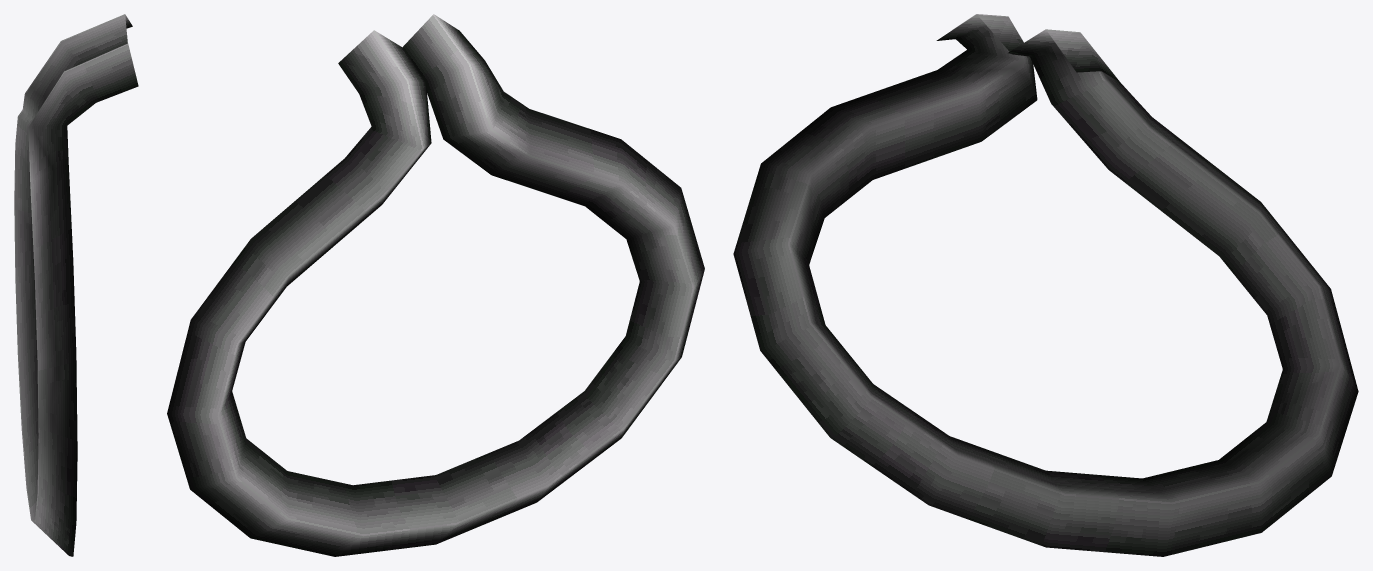
Rendered from OVERHILL_A_01_DOOR_RING.fbx.
3 renders of one model, left to right at view 1: azimuth 30°, elevation 25°; view 2: azimuth 150°, elevation 25°; view 3: azimuth 270°, elevation 25°, orthographic. The views are drawn at different scales.
Parts seen in each view (by area): view 1: OVERHILL_A_01_DOOR_RING; view 2: OVERHILL_A_01_DOOR_RING; view 3: OVERHILL_A_01_DOOR_RING.
Boxes of the visible parts, bbox=[...] form: OVERHILL_A_01_DOOR_RING: bbox=[14, 14, 138, 556]; OVERHILL_A_01_DOOR_RING: bbox=[167, 14, 704, 556]; OVERHILL_A_01_DOOR_RING: bbox=[733, 14, 1358, 556].
Size of the model in its own units: 2638 by 4671 by 4797.
1 material, 1 textured.
